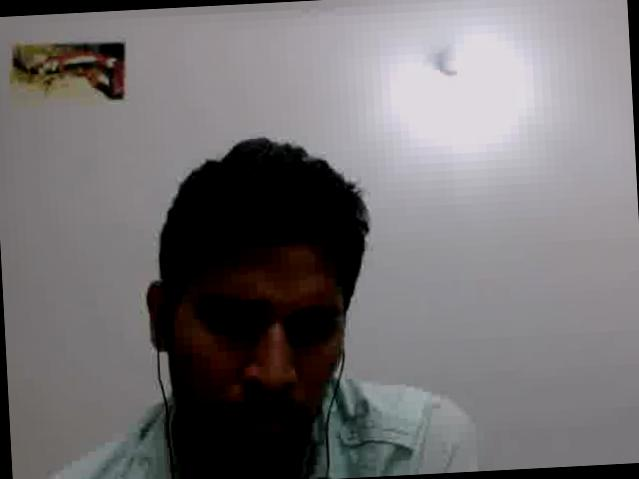bingung: (168, 223, 362, 469)
